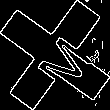M_NW: (21, 21, 89, 89)
